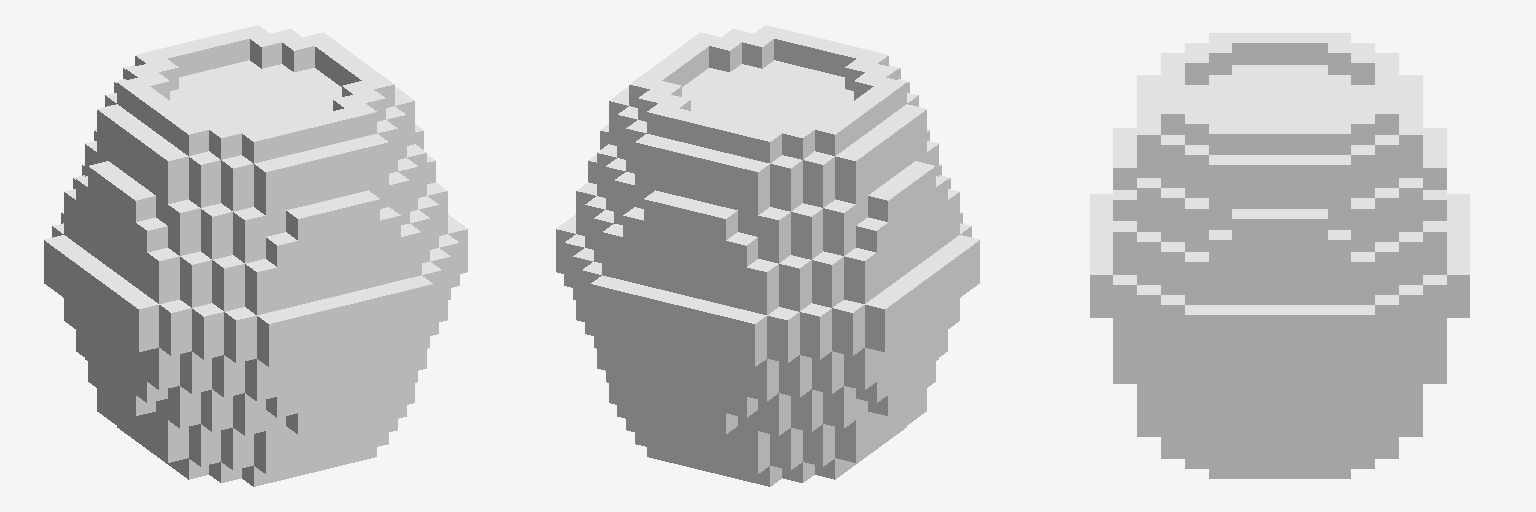
File: Let-1.obj
3 renders of one model, left to right at view 1: azimuth 30°, elevation 25°; view 2: azimuth 150°, elevation 25°; view 3: azimuth 270°, elevation 25°, orthographic.
Parts seen in each view (by area): view 1: Let_1; view 2: Let_1; view 3: Let_1.
Boxes of the visible parts, <box> form: Let_1: <box>44,25,467,486</box>; Let_1: <box>556,25,979,486</box>; Let_1: <box>1090,33,1469,478</box>.
Bounding box in the file's own units: 1.6 × 1.6 × 1.6.